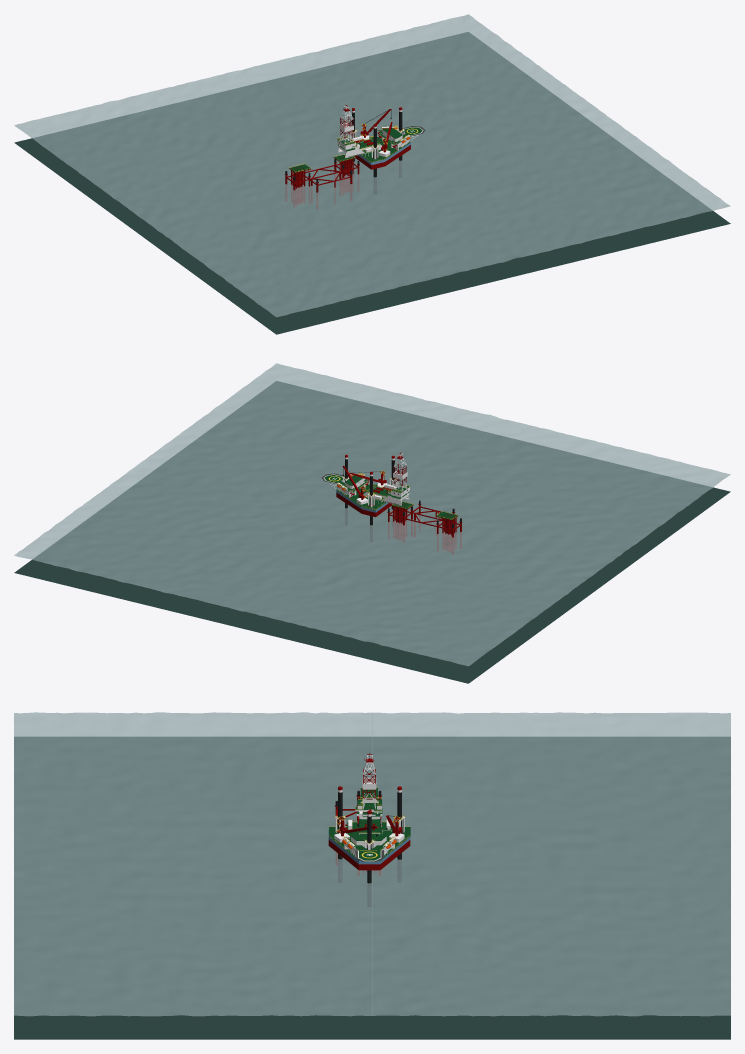
Rendered from 胜利十号钻井平台.FBX.
The picture shows the model from 3 angles, top to bottom: view 1: azimuth 30°, elevation 25°; view 2: azimuth 150°, elevation 25°; view 3: azimuth 270°, elevation 25°; orthographic projection. The views are drawn at different scales.
Parts seen in each view (by area): view 1: Plane001, Plane002, Cylinder018, Box005, Box010, 对象029; view 2: Plane001, Plane002, Cylinder018, Box005; view 3: Plane001, Plane002, Box005, Cylinder004.
Boxes of the visible parts, x1,y1,x2,y2 form: Plane001: (14,14,730,317); Plane002: (14,32,730,334); Cylinder018: (291,159,353,205); Box005: (354,137,410,169); Box010: (286,162,357,204); 对象029: (285,159,359,209); Plane001: (14,363,730,666); Plane002: (14,381,730,683); Cylinder018: (393,506,456,552); Box005: (336,484,392,517); Plane001: (14,712,730,1016); Plane002: (14,737,730,1039); Box005: (328,827,410,870); Cylinder004: (338,786,401,906).
Bounding box in the file's own units: 358 × 77.02 × 358.
